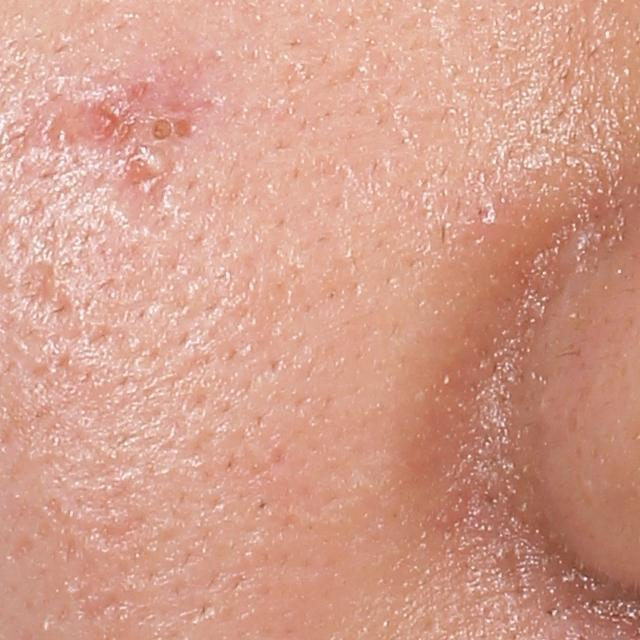atrophic_scar: (22, 264, 73, 328), (126, 160, 162, 217)
comedo: (144, 110, 179, 144)
